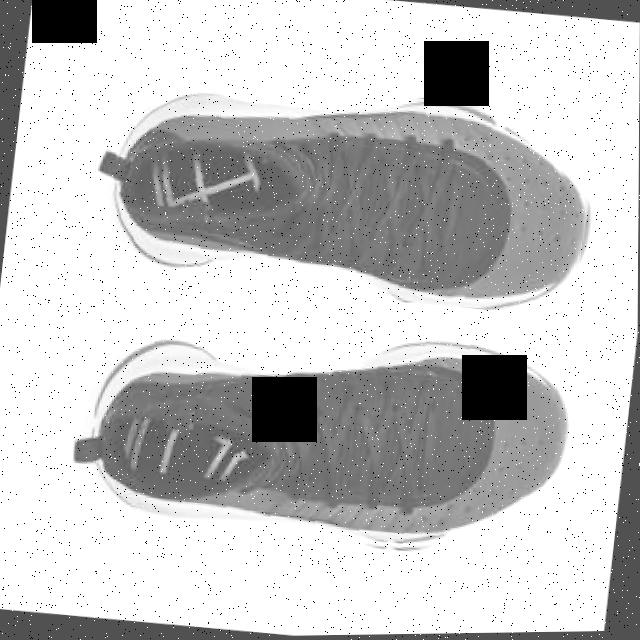shoe: (66, 303, 579, 575), (103, 62, 603, 325)
